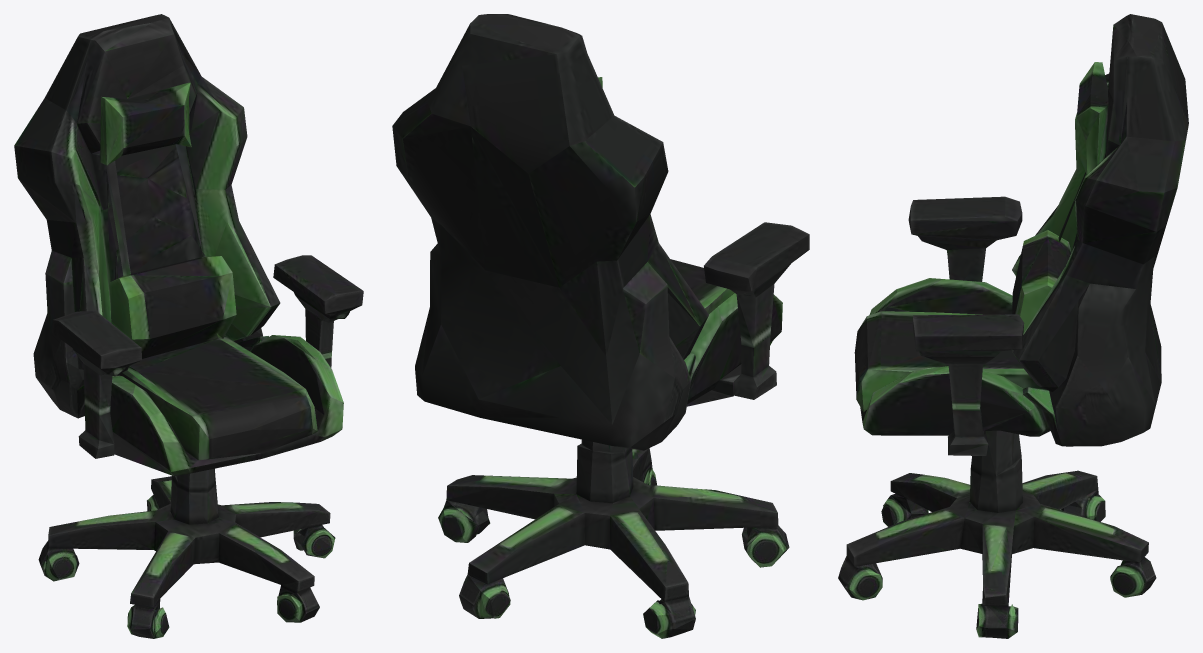
The model's file is cadeira_gamer.glb.
3 views of the same model, side by side, from view 1: azimuth 30°, elevation 25°; view 2: azimuth 150°, elevation 25°; view 3: azimuth 270°, elevation 25° (orthographic). The views are drawn at different scales.
Parts seen in each view (by area): view 1: Mesh_0; view 2: Mesh_0; view 3: Mesh_0.
Boxes of the visible parts, left/top/right/bottom form: Mesh_0: left=14, top=14, right=363, bottom=638; Mesh_0: left=392, top=14, right=809, bottom=638; Mesh_0: left=838, top=14, right=1188, bottom=638.
Bounding box in the file's own units: 0.7138 × 1.3 × 0.7588.
1 material, 1 textured.
